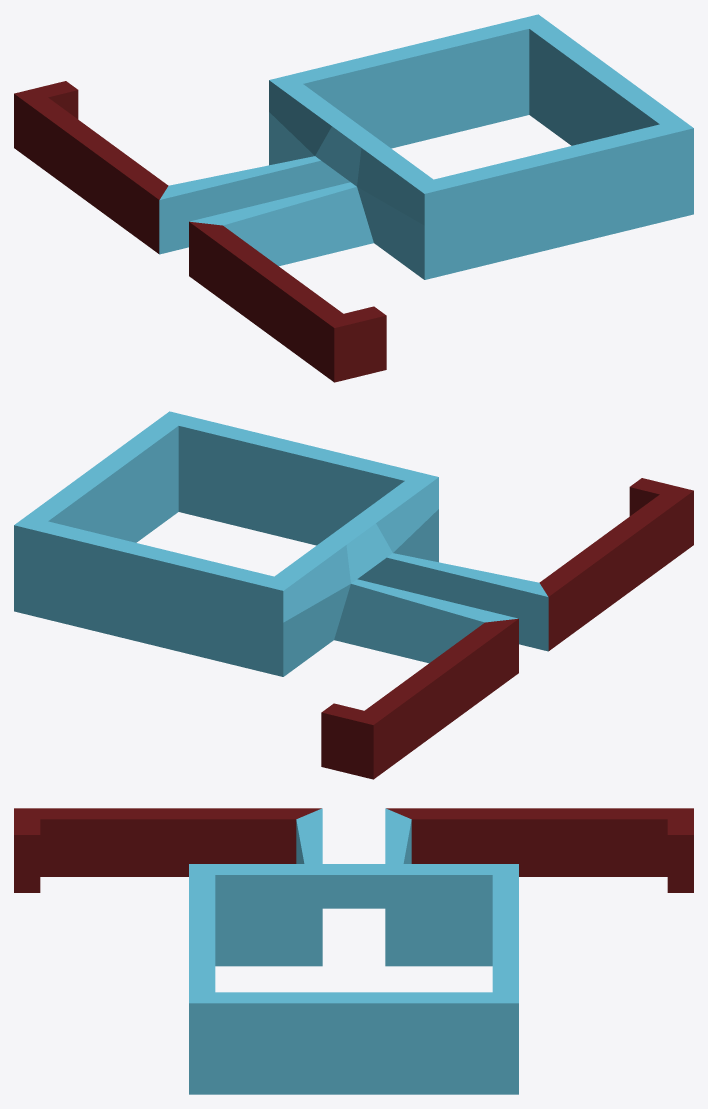
File: col_IntroStageWalls.fbx
3 renders of one model, top to bottom at view 1: azimuth 30°, elevation 25°; view 2: azimuth 150°, elevation 25°; view 3: azimuth 270°, elevation 25°, orthographic. The views are drawn at different scales.
Visible parts, largest first — view 1: col_IntroStageWalls; view 2: col_IntroStageWalls; view 3: col_IntroStageWalls.
Boxes of the visible parts, x1=… form: col_IntroStageWalls: x1=14, y1=14, x2=693, y2=382; col_IntroStageWalls: x1=14, y1=411, x2=693, y2=779; col_IntroStageWalls: x1=14, y1=808, x2=693, y2=1094.
Size of the model in its own units: 2275 by 424 by 2858.
